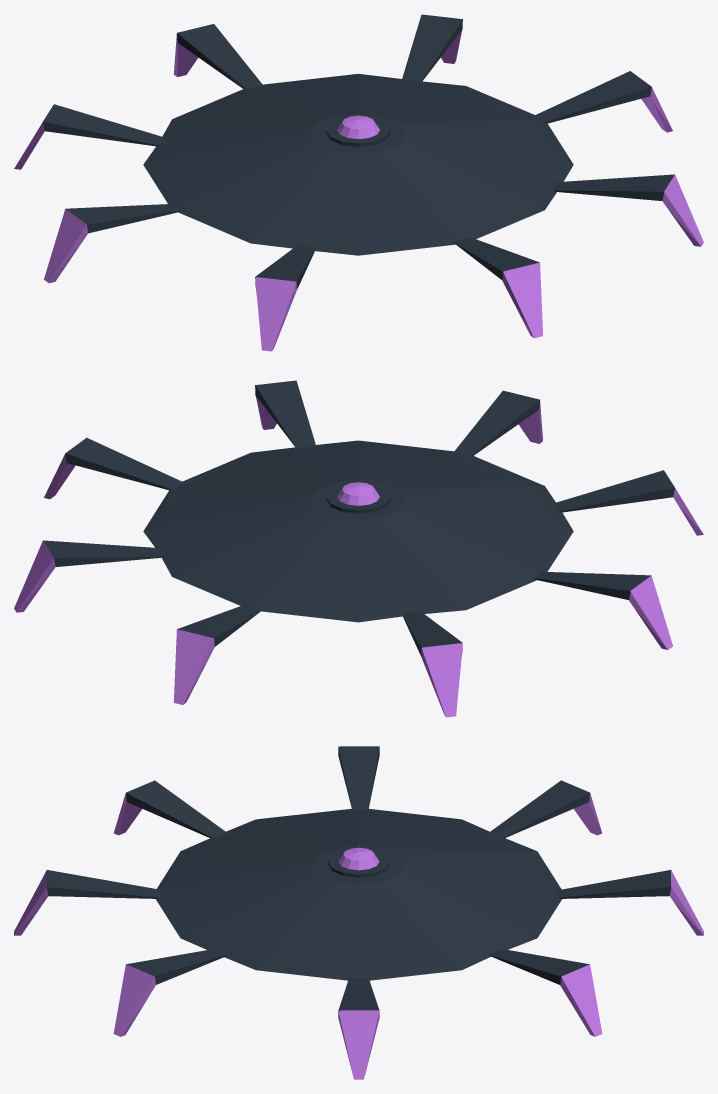
Rendered from Spider_Plant_000001.obj.
The picture shows the model from 3 angles, top to bottom: view 1: azimuth 30°, elevation 25°; view 2: azimuth 150°, elevation 25°; view 3: azimuth 270°, elevation 25°; orthographic projection. The views are drawn at different scales.
Visible parts, largest first — view 1: Circle_Circle.001; view 2: Circle_Circle.001; view 3: Circle_Circle.001.
Boxes of the visible parts, x1,y1,x2,y2 form: Circle_Circle.001: [14, 14, 703, 351]; Circle_Circle.001: [14, 380, 703, 717]; Circle_Circle.001: [14, 746, 703, 1079].
Bounding box in the file's own units: 3.35 × 0.4392 × 3.35.
